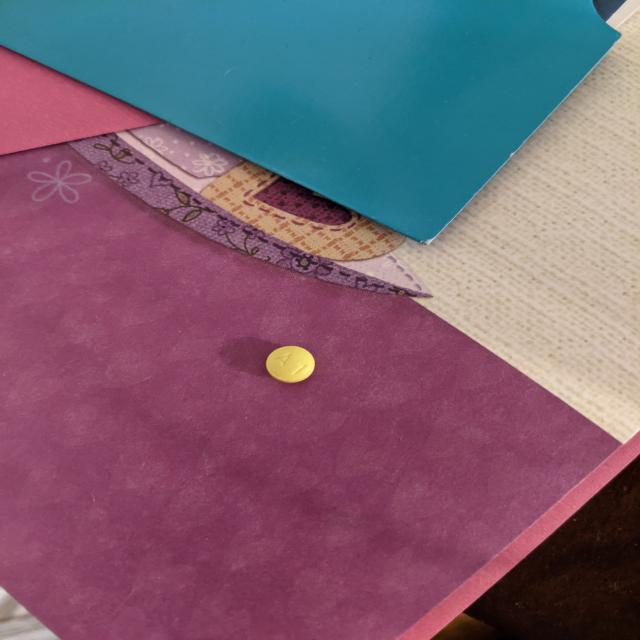non-organic waste: (265, 344, 316, 384)
